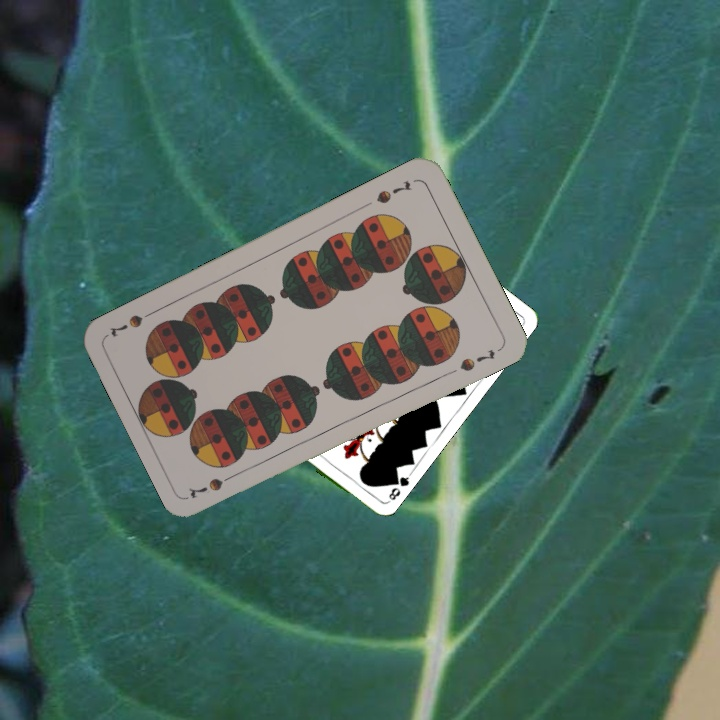G8: (383, 471, 413, 505)
S7: (372, 176, 414, 207), (204, 468, 242, 494)
